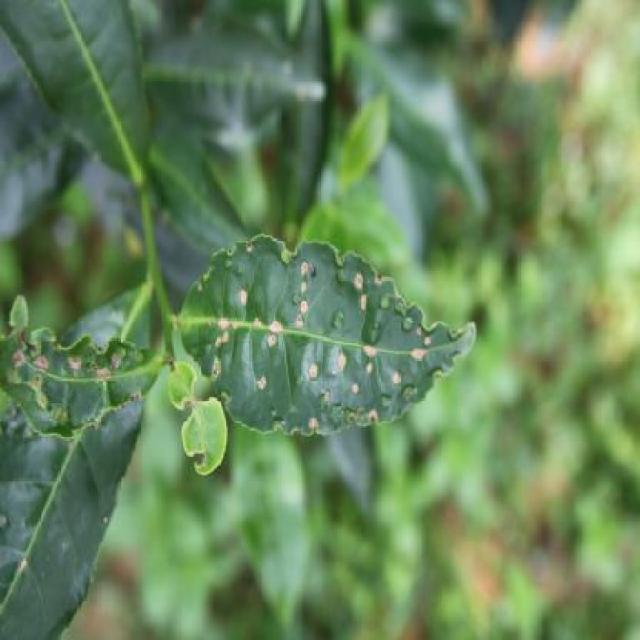Tea Mosquito bug infested leaf: (182, 232, 492, 437), (3, 298, 165, 434)
